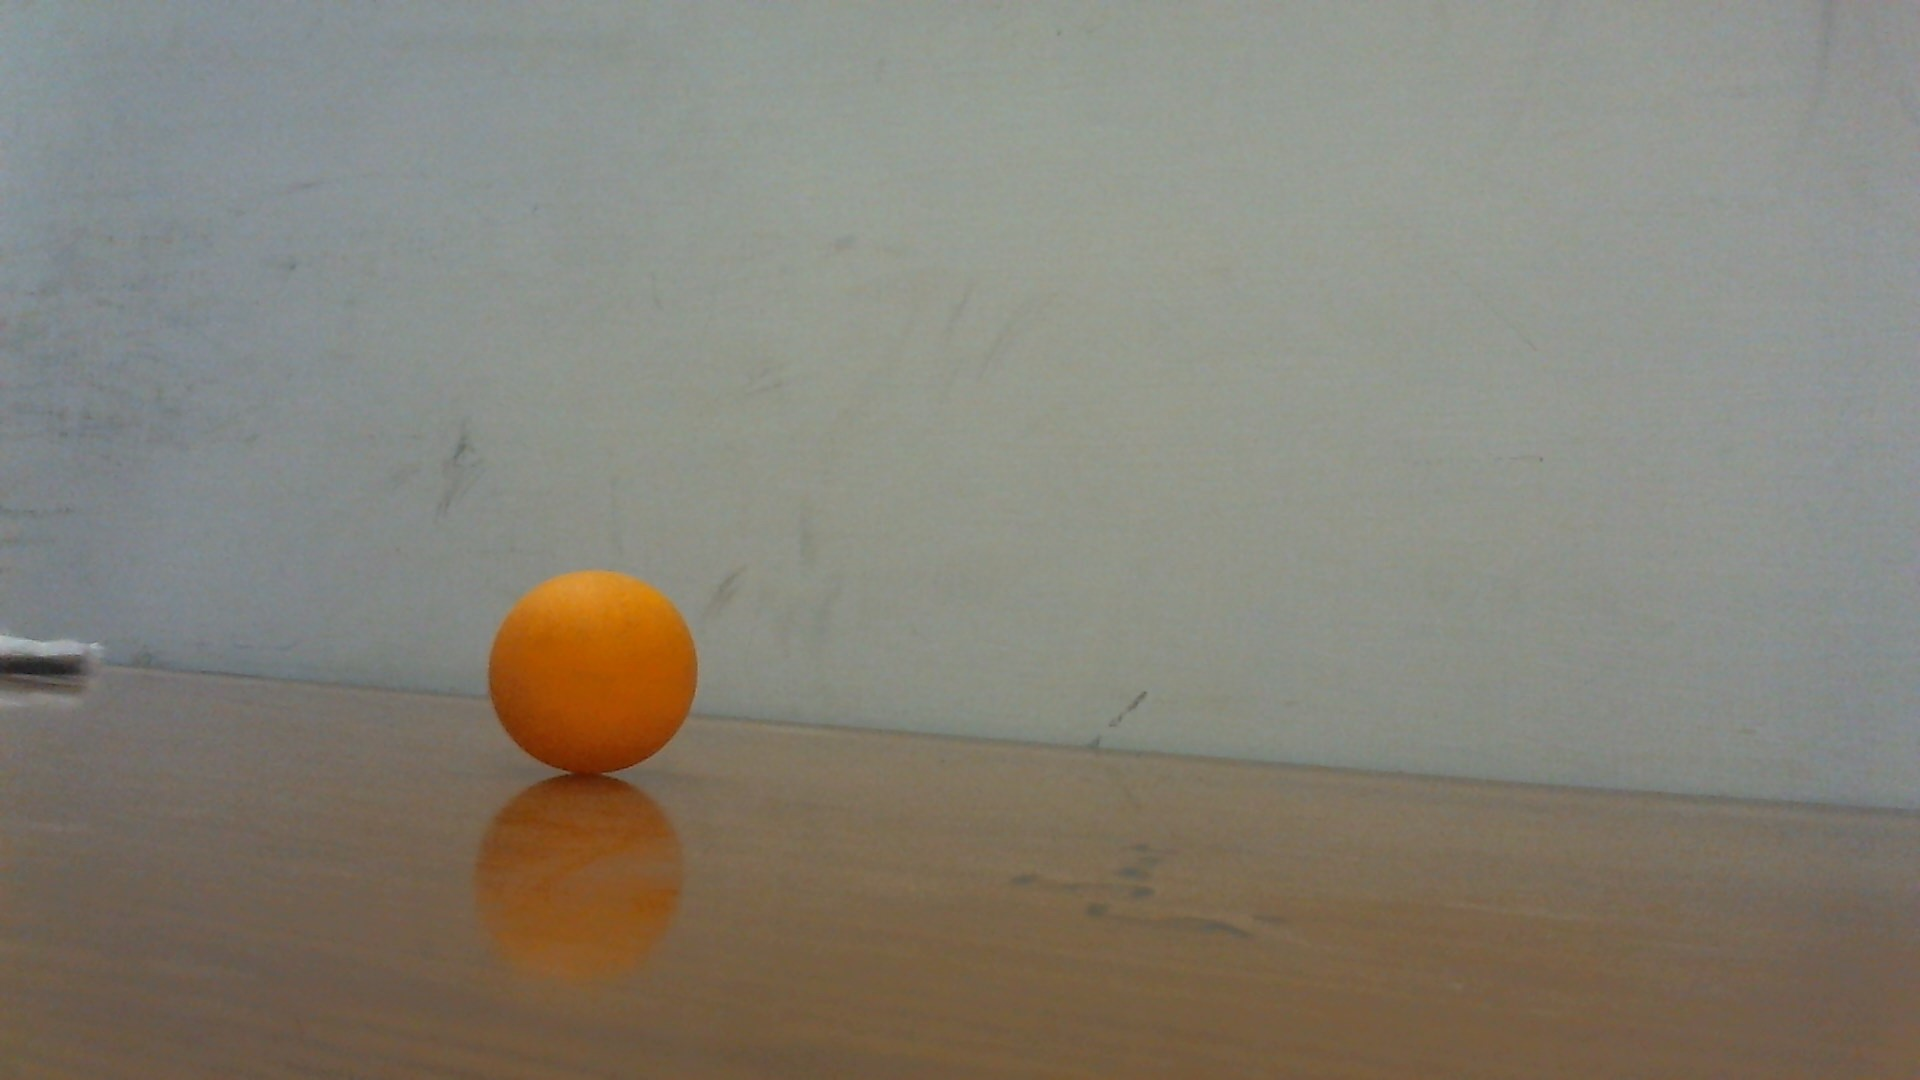ball: (489, 567, 698, 777)
